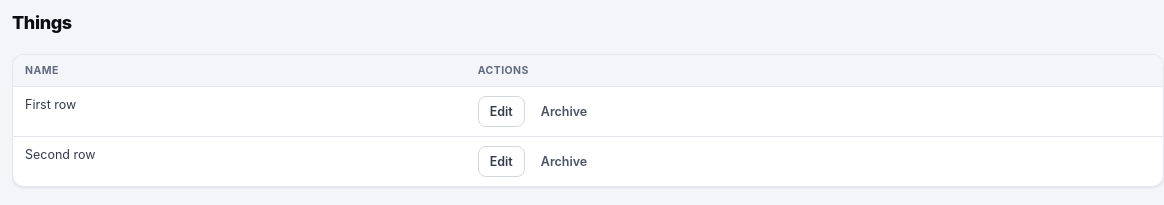
it: AdminResourcePage — row actions › disables only the row being archived
The image size is (1164, 205).
Expected: the text "First row" is shown, [13,86,466,136]
Step 1. Click the button "Archive" in the row of "First row" → (564, 111), box [529,96,599,127]
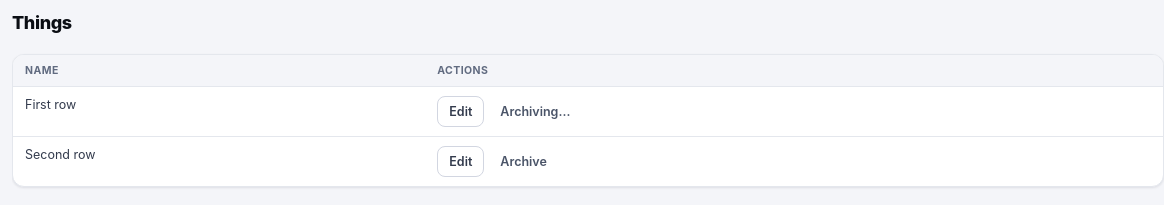
Expected: the button "Archive" is enabled, [488,146,559,177]
Now the button with aria-label "Archive" is disabled, box [488,96,582,127]
